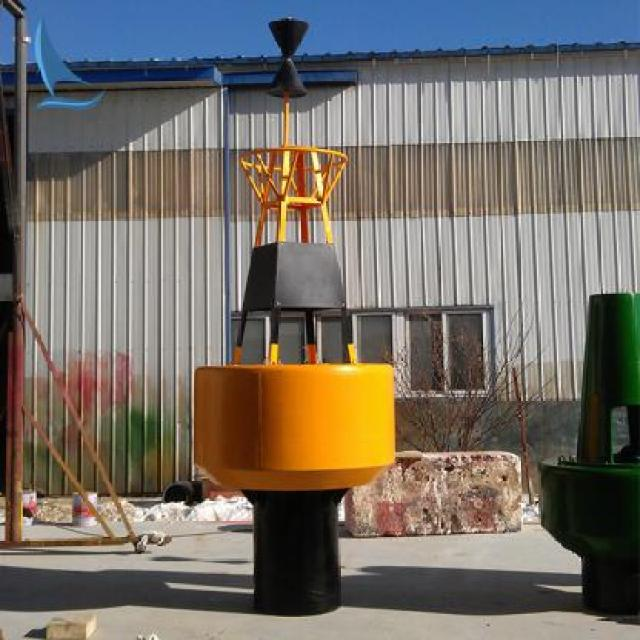a: (176, 11, 423, 623), (144, 80, 461, 411)
